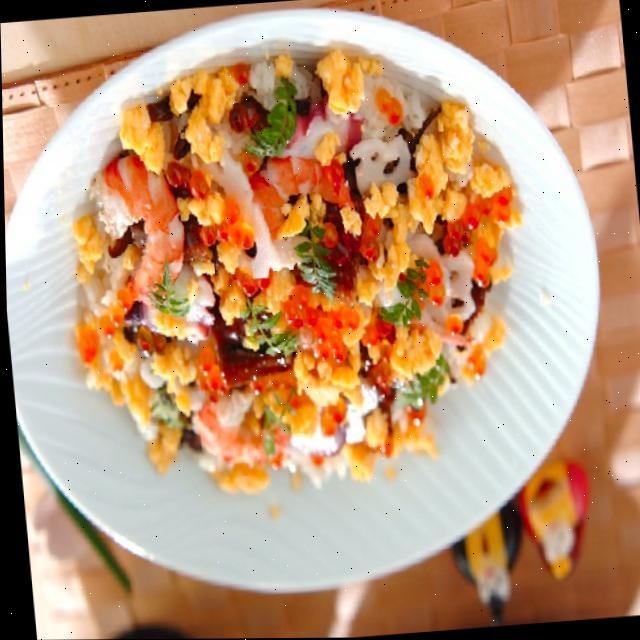寿司卷物: (0, 0, 626, 619)
